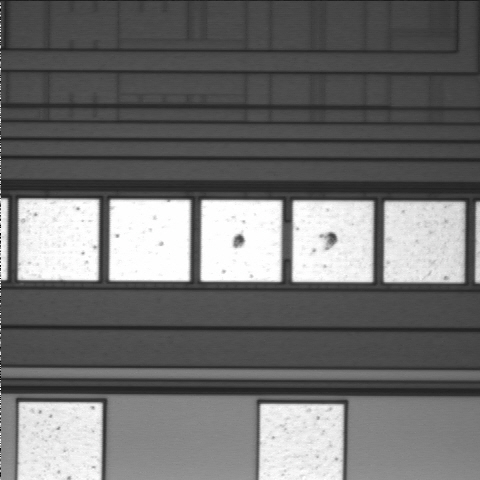pad: (200, 200, 282, 282), (18, 199, 99, 281), (109, 200, 191, 281), (292, 200, 373, 282), (384, 202, 465, 283)
